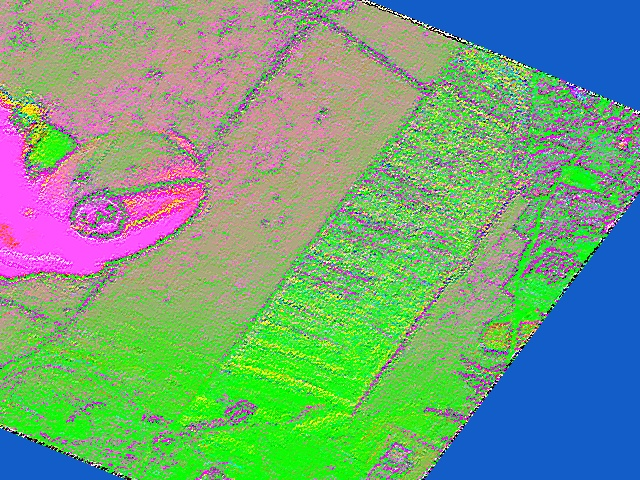three: (63, 187, 140, 246)
